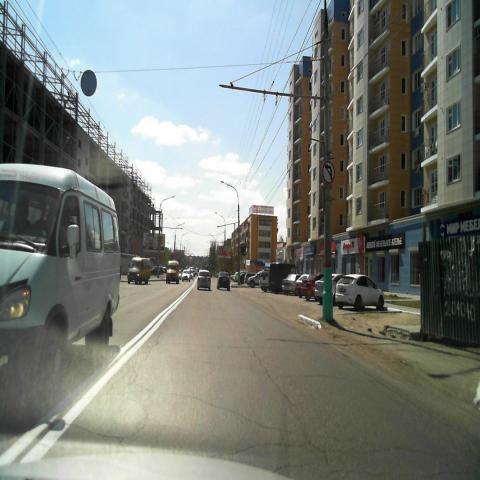3_18_2: (322, 160, 334, 184)
